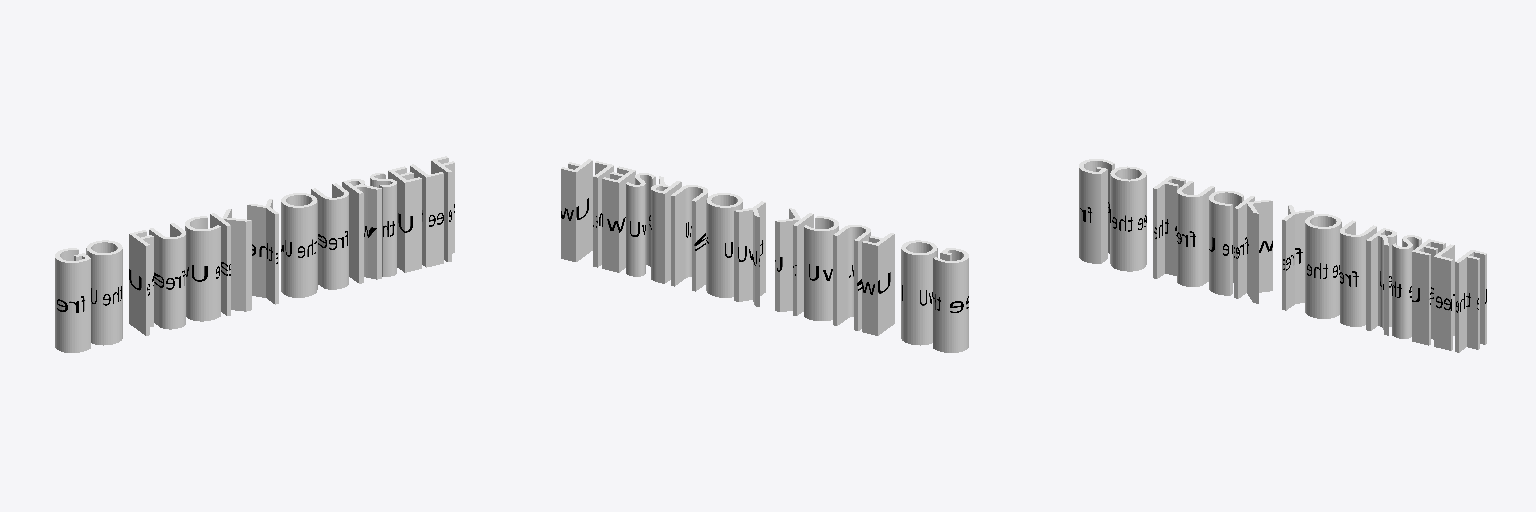
3 views of the same model, side by side, from view 1: azimuth 30°, elevation 25°; view 2: azimuth 150°, elevation 25°; view 3: azimuth 330°, elevation 25° (orthographic).
Visible parts, largest first — view 1: Text; view 2: Text; view 3: Text.
Part boxes in pixels (left/top/right/bottom): Text: left=55, top=156, right=454, bottom=352; Text: left=561, top=159, right=968, bottom=352; Text: left=1079, top=159, right=1486, bottom=352.
Bounding box in the file's own units: 9.24 × 2 × 0.7.
1 materials, 1 textured.